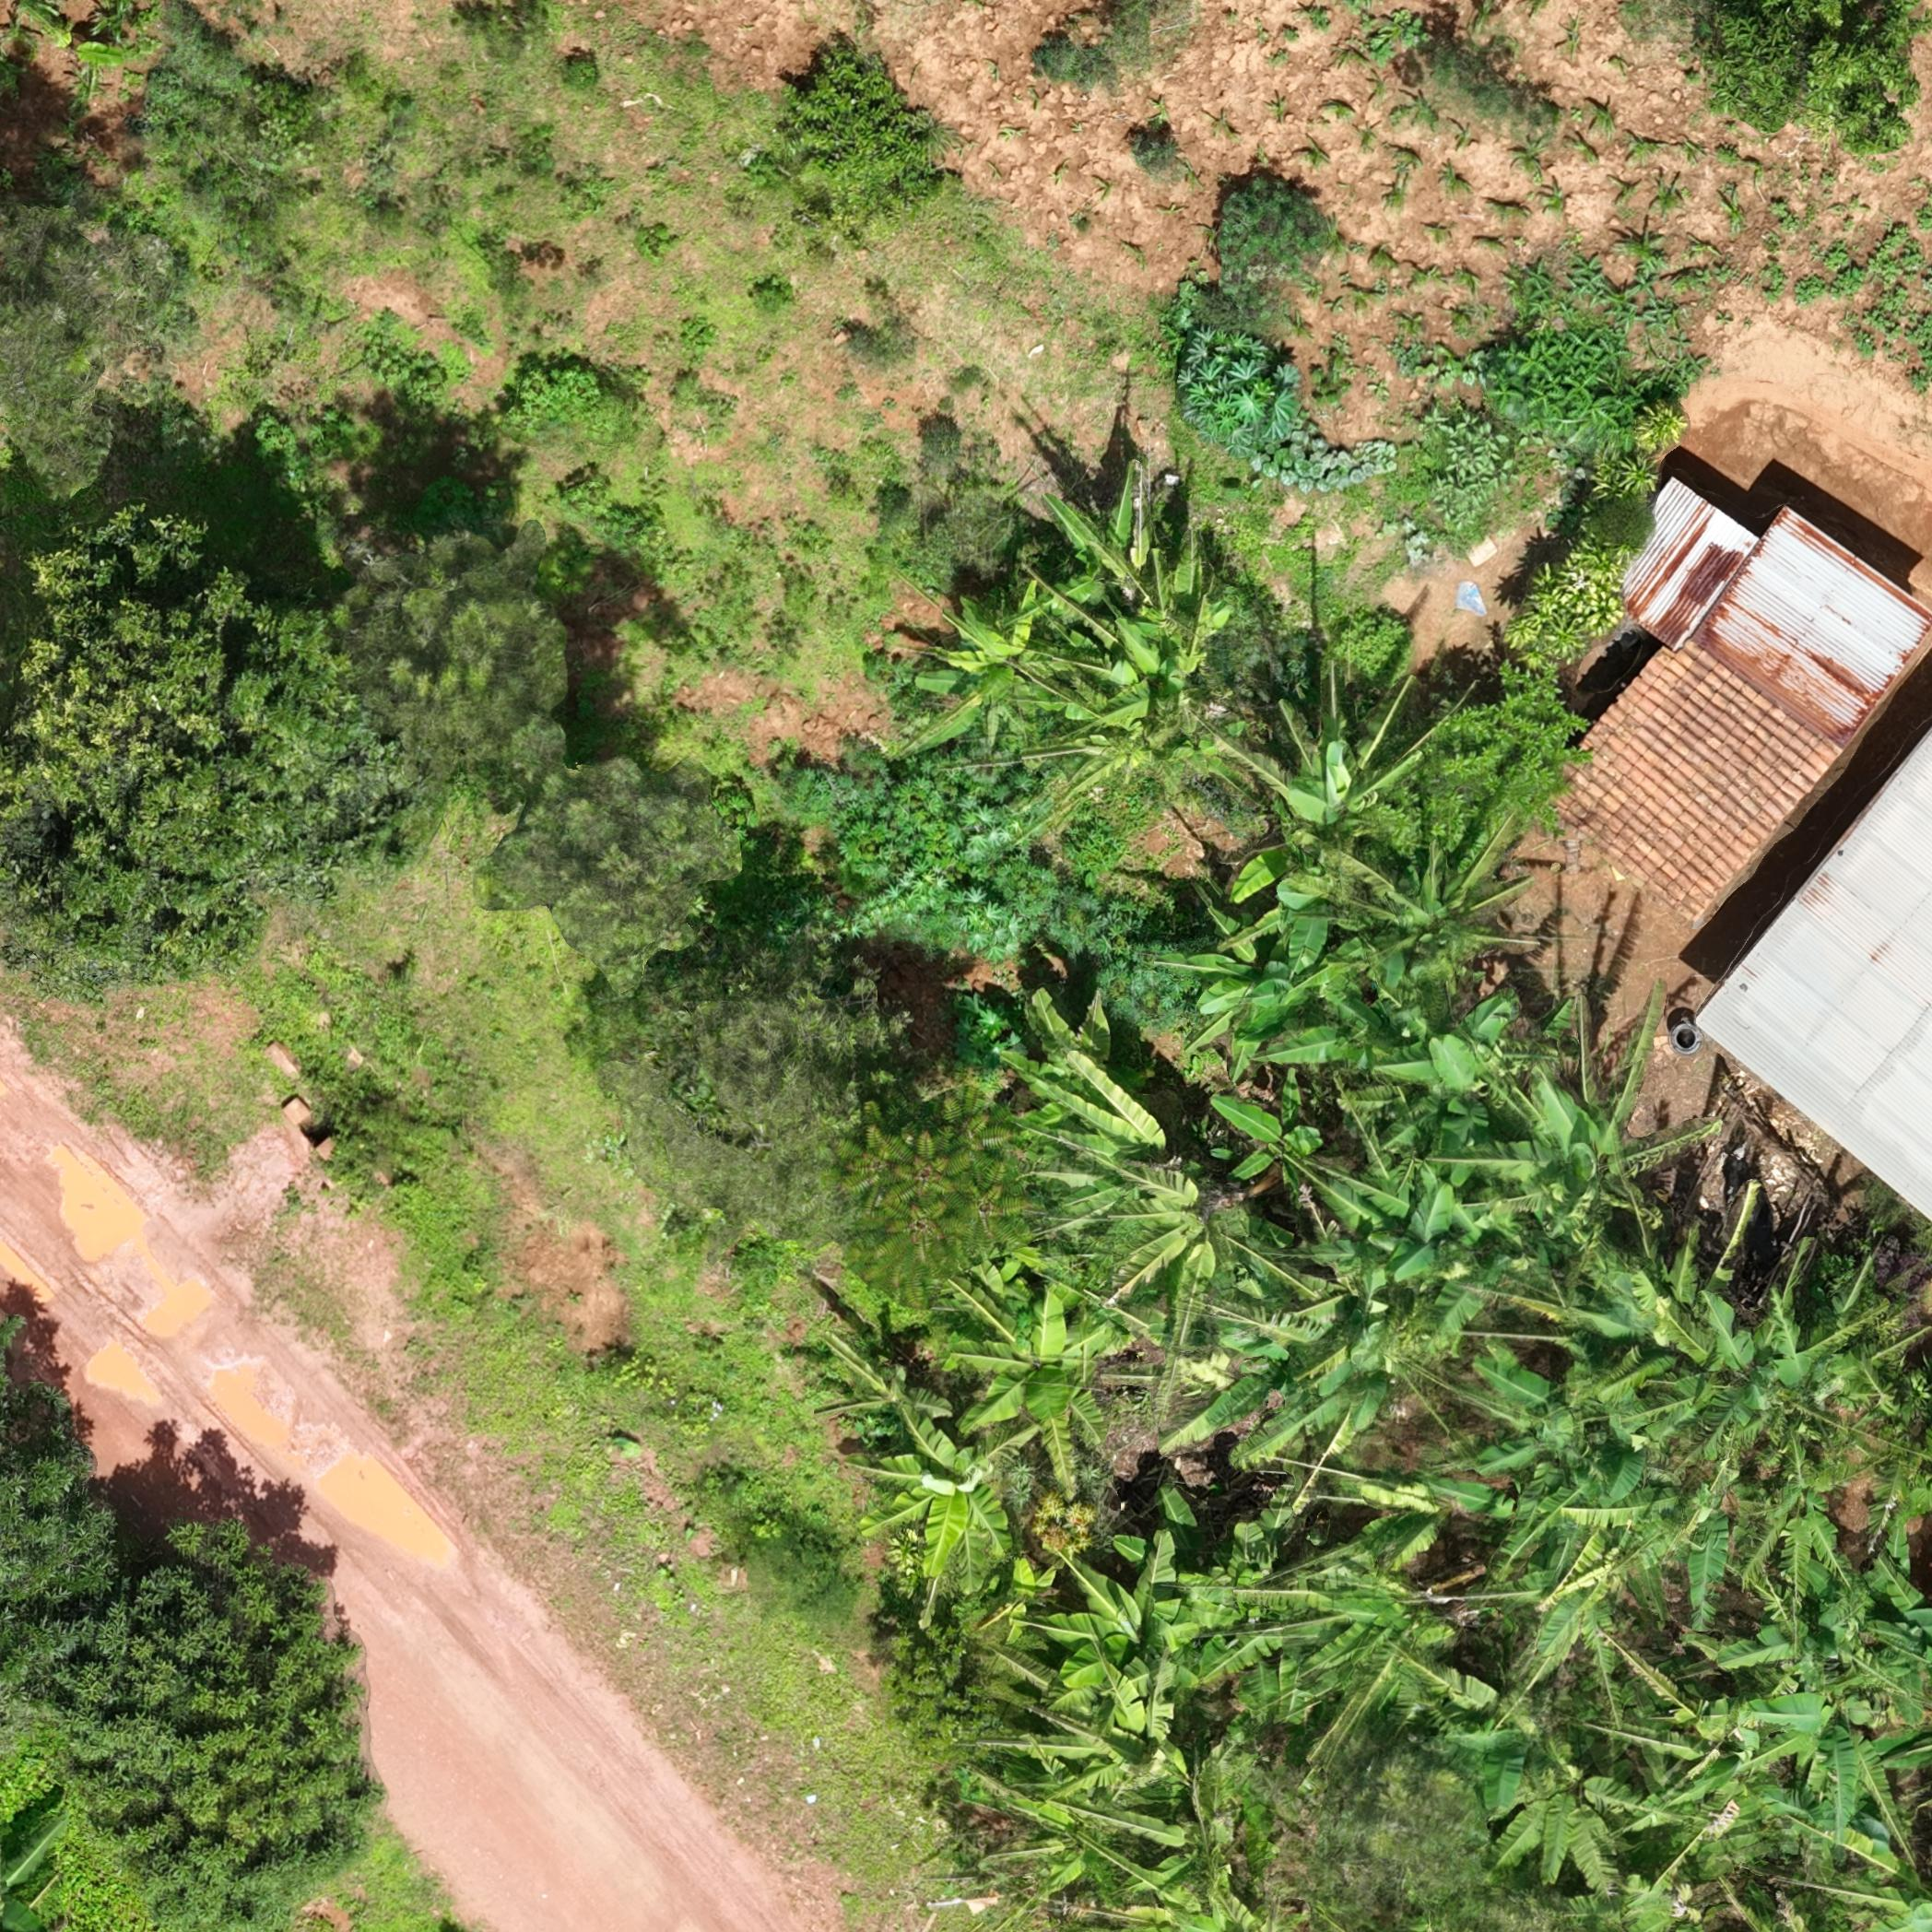Banana: (1164, 1299, 1437, 1465), (1261, 1548, 1472, 1739), (1338, 1136, 1539, 1329), (959, 1283, 1131, 1488), (1468, 1338, 1677, 1495), (989, 991, 1157, 1180), (1037, 1529, 1221, 1691), (1203, 908, 1376, 1074), (1272, 701, 1433, 878), (1622, 1240, 1739, 1483), (1488, 1737, 1658, 1895), (870, 1426, 1024, 1598), (1093, 1796, 1311, 1911), (1364, 837, 1527, 985), (1313, 1440, 1476, 1573), (1109, 1164, 1231, 1339), (1067, 1679, 1231, 1808), (1380, 998, 1534, 1136), (1518, 1568, 1668, 1702), (1516, 1099, 1665, 1230), (1120, 600, 1258, 740), (801, 1311, 945, 1445), (1035, 492, 1175, 614), (1207, 1072, 1325, 1189), (922, 587, 1054, 685)
